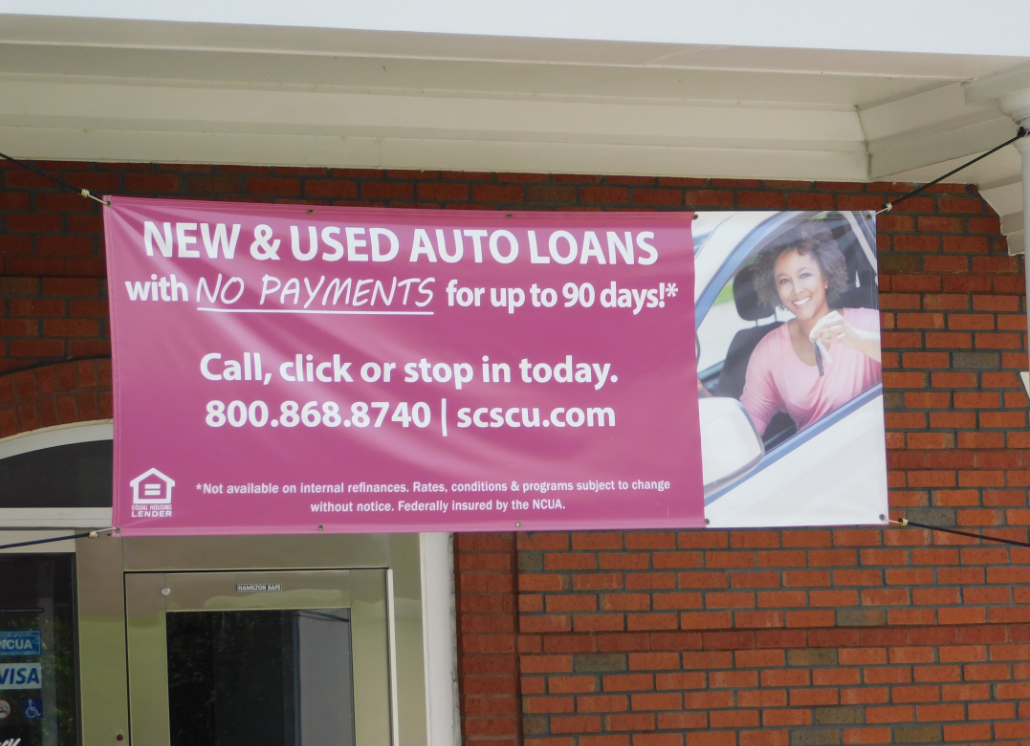vinyl banner: (86, 168, 968, 579)
